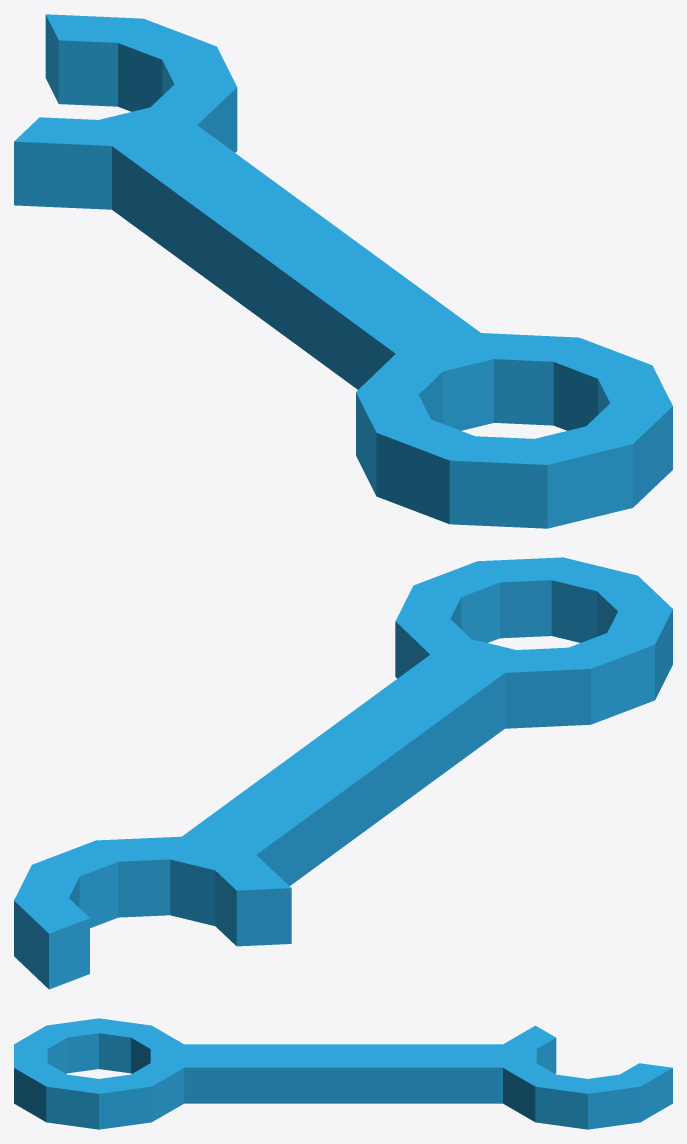
File: Wrench_1.fbx
3 views of the same model, one above another, from view 1: azimuth 30°, elevation 25°; view 2: azimuth 150°, elevation 25°; view 3: azimuth 270°, elevation 25° (orthographic). The views are drawn at different scales.
Parts seen in each view (by area): view 1: Wrench_1; view 2: Wrench_1; view 3: Wrench_1.
Boxes of the visible parts, left/top/right/bottom form: Wrench_1: left=14, top=14, right=672, bottom=528; Wrench_1: left=14, top=557, right=672, bottom=989; Wrench_1: left=14, top=1018, right=672, bottom=1129.
Size of the model in its own units: 4.92 by 1.09 by 18.13.
Materials: 1 (1 with a texture image).
